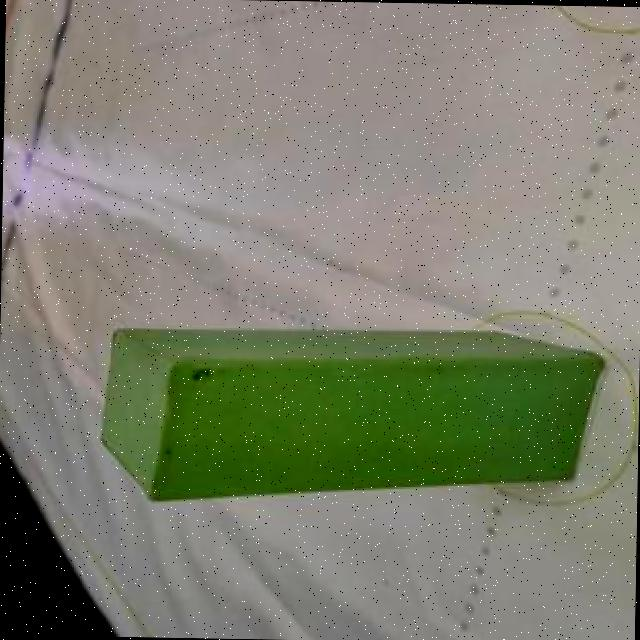greenbox: (96, 324, 610, 511)
